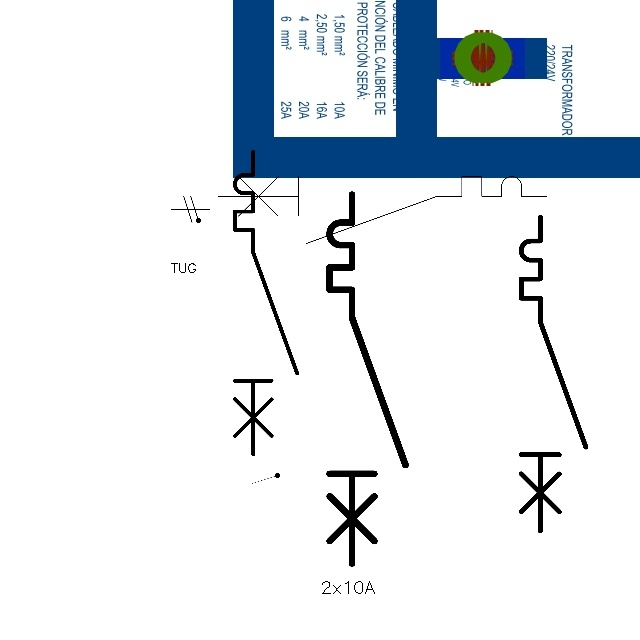interruptor_termomagnetico: (320, 185, 415, 573), (210, 168, 555, 252), (513, 209, 594, 539), (227, 144, 305, 462)
